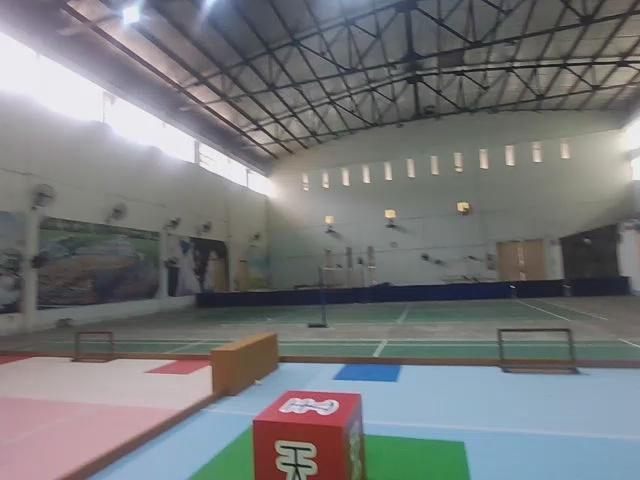R2 Real: (250, 387, 368, 479)
